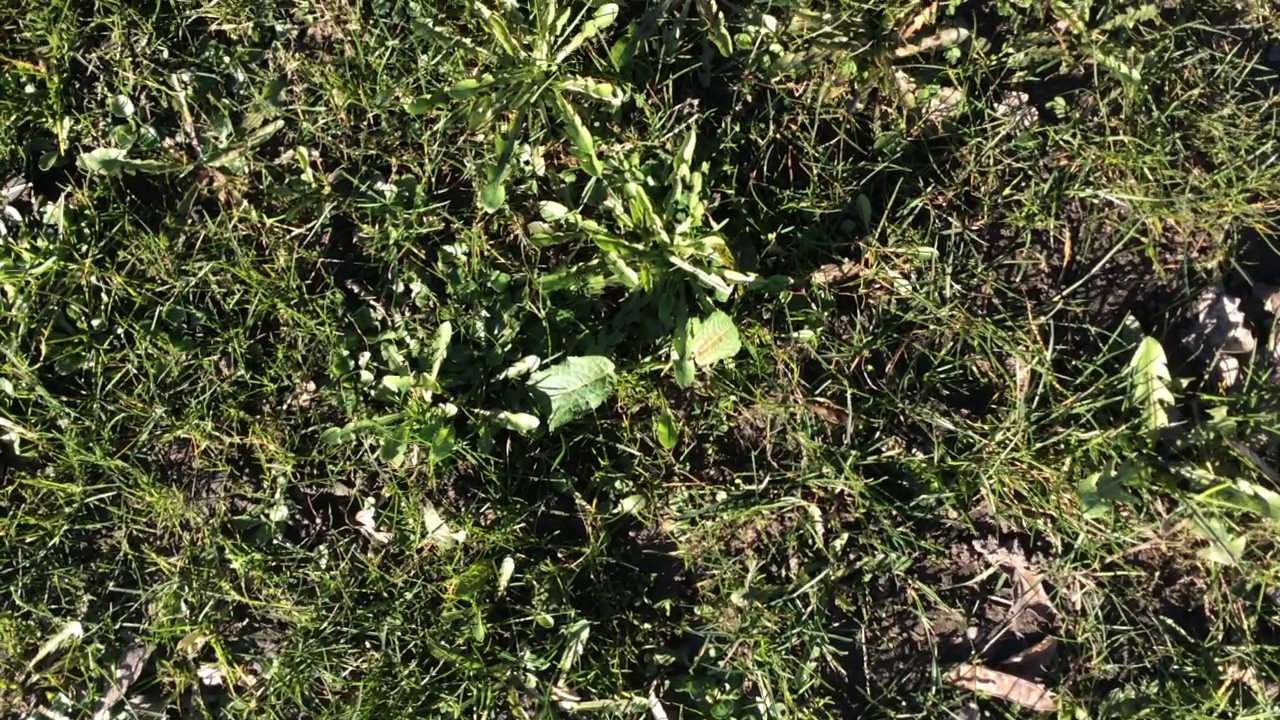rumex: (515, 356, 616, 420), (656, 311, 739, 370)
